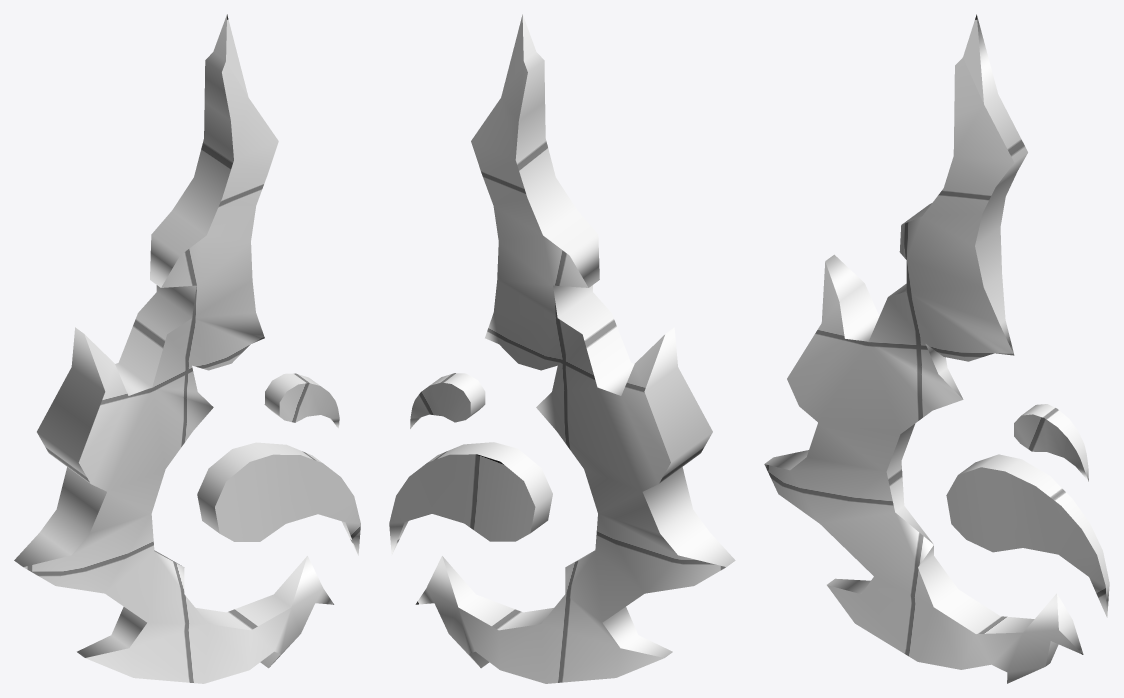
The model's file is Marks.FBX.
3 views of the same model, side by side, from view 1: azimuth 30°, elevation 25°; view 2: azimuth 150°, elevation 25°; view 3: azimuth 330°, elevation 25° (orthographic).
Visible parts, largest first — view 1: Cylinder016; view 2: Cylinder016; view 3: Cylinder016.
Part boxes in pixels (<box>): Cylinder016: <box>14,14,360,683</box>; Cylinder016: <box>389,14,735,683</box>; Cylinder016: <box>764,14,1109,683</box>.
Size of the model in its own units: 88.16 by 163 by 18.88.
